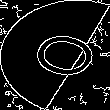O_SE: (11, 25, 99, 85)
